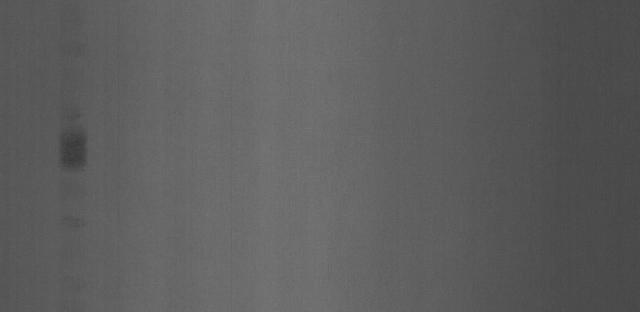oil_spot: (53, 111, 94, 181)
